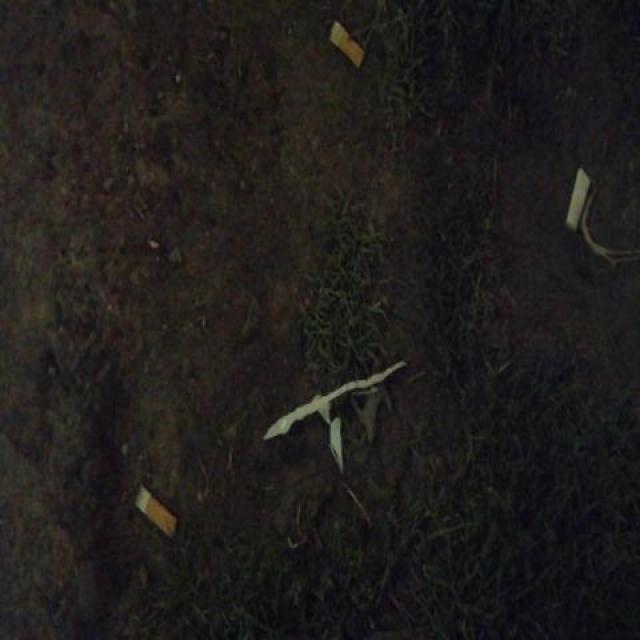non-organic waste: (131, 482, 181, 545), (560, 164, 595, 236), (326, 15, 367, 76)
